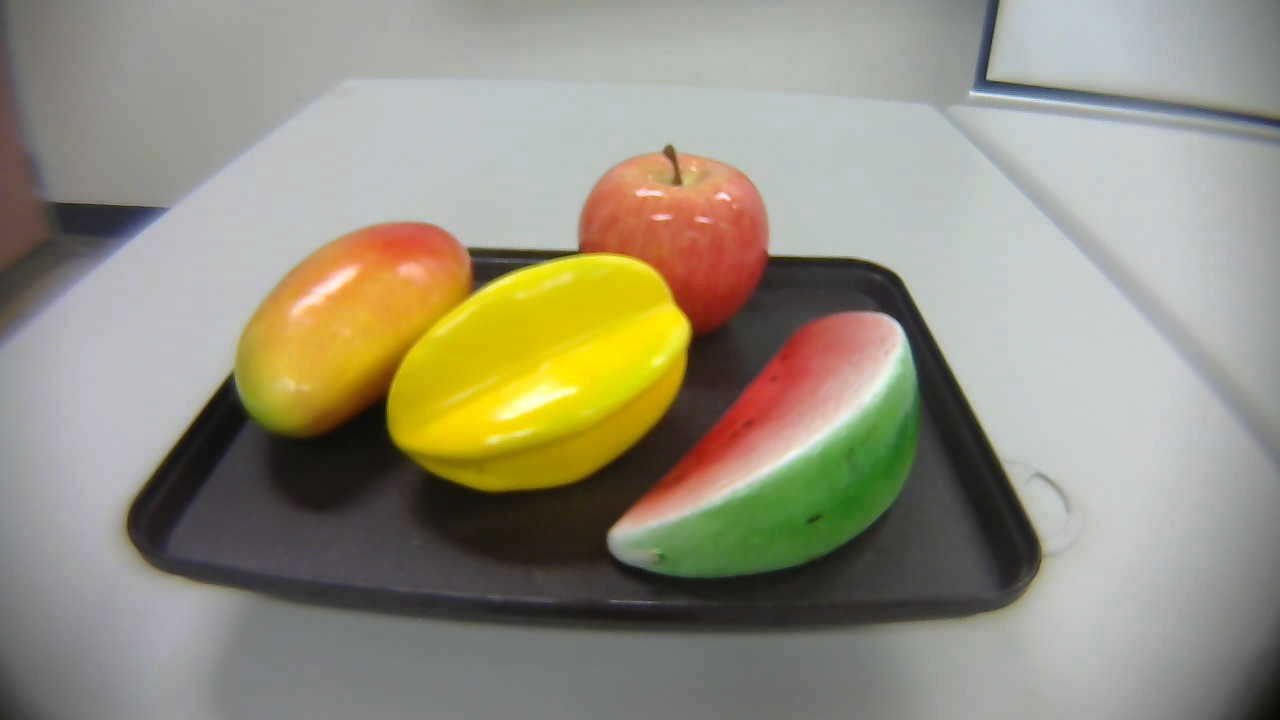red apple: (575, 139, 772, 354)
red mango: (230, 221, 493, 453)
star fruit: (385, 248, 693, 498)
water melon: (588, 294, 927, 574)
